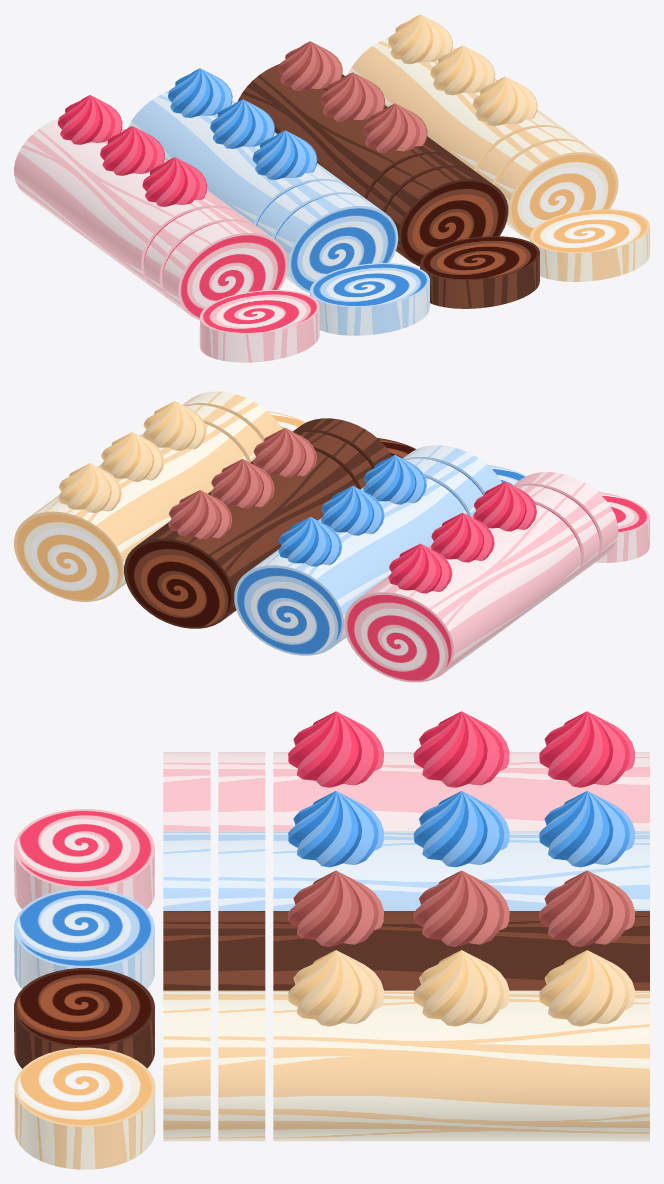
3 views of the same model, one above another, from view 1: azimuth 30°, elevation 25°; view 2: azimuth 150°, elevation 25°; view 3: azimuth 270°, elevation 25° (orthographic). The views are drawn at different scales.
Visible parts, largest first — view 1: Swiss_roll (×4), Slice (×4); view 2: Swiss_roll (×4), Slice; view 3: Swiss_roll (×4), Slice (×4).
Boxes of the visible parts, x1,y1,x2,y2 form: Swiss_roll (×4): [14, 14, 618, 320]; Slice (×4): [199, 209, 649, 362]; Swiss_roll (×4): [14, 391, 618, 682]; Slice: [596, 491, 649, 562]; Swiss_roll (×4): [163, 711, 649, 1141]; Slice (×4): [14, 809, 155, 1169].
Bounding box in the file's own units: 0.9594 × 0.2531 × 0.8105.
12 materials, 12 textured.
